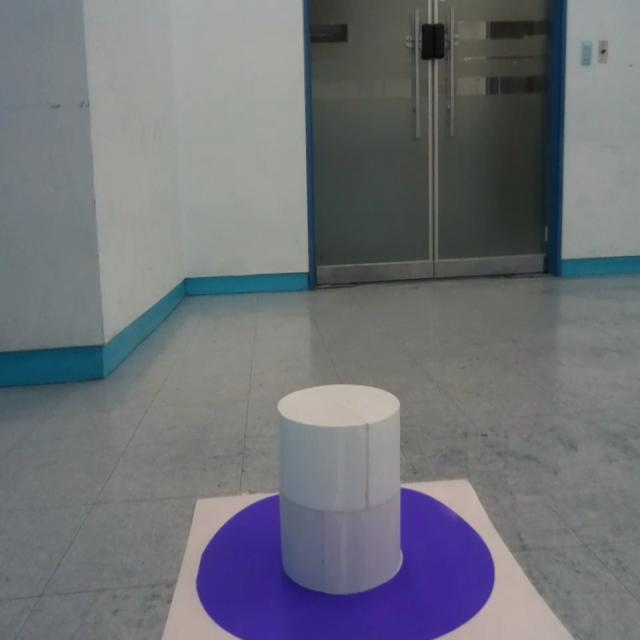cylinder: (274, 382, 402, 596)
